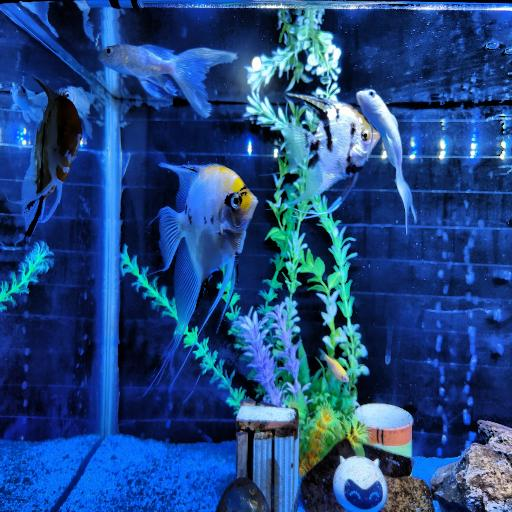Fish: (160, 164, 257, 358), (283, 94, 379, 212), (99, 44, 237, 117), (21, 81, 82, 236), (356, 90, 416, 231), (58, 86, 95, 138), (57, 86, 94, 137), (216, 478, 270, 511), (11, 84, 47, 123), (22, 1, 58, 37), (321, 350, 349, 383), (75, 0, 94, 42)
